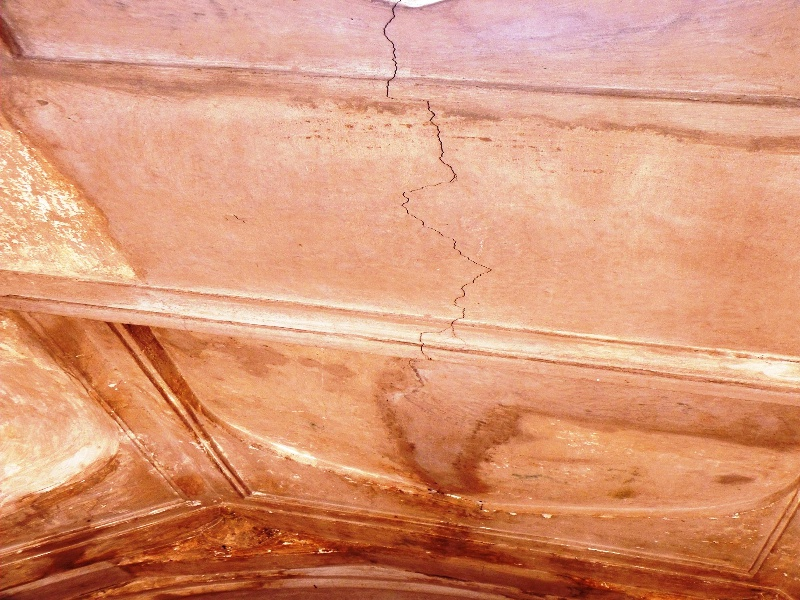Crack: (375, 1, 491, 369)
